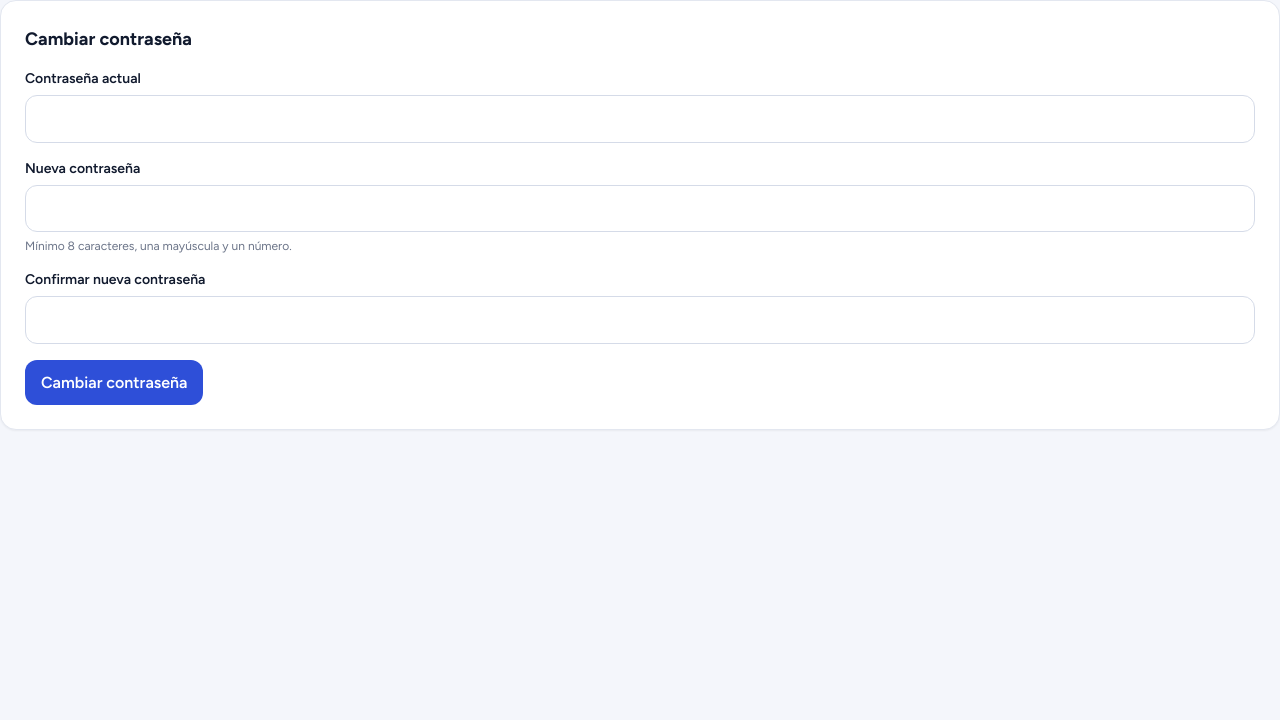
Test: FormCambioPassword › explica el límite de intentos ante un 429
Type "Actual123" into the password field labelled "Contraseña actual".
click(640, 119); type("Actual123")  # box left=25, top=95, right=1255, bottom=143
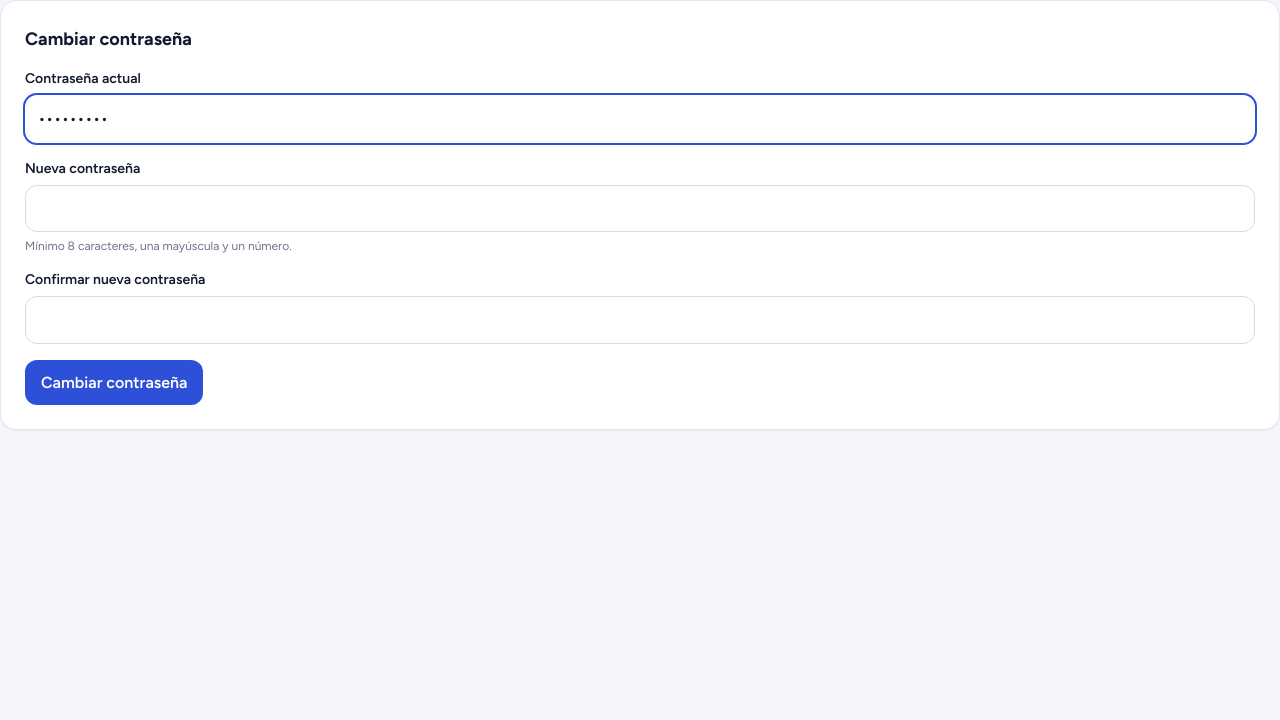
Type "Nueva4567" into the password field labelled "Nueva contraseña".
click(640, 208); type("Nueva4567")  # box left=25, top=185, right=1255, bottom=232
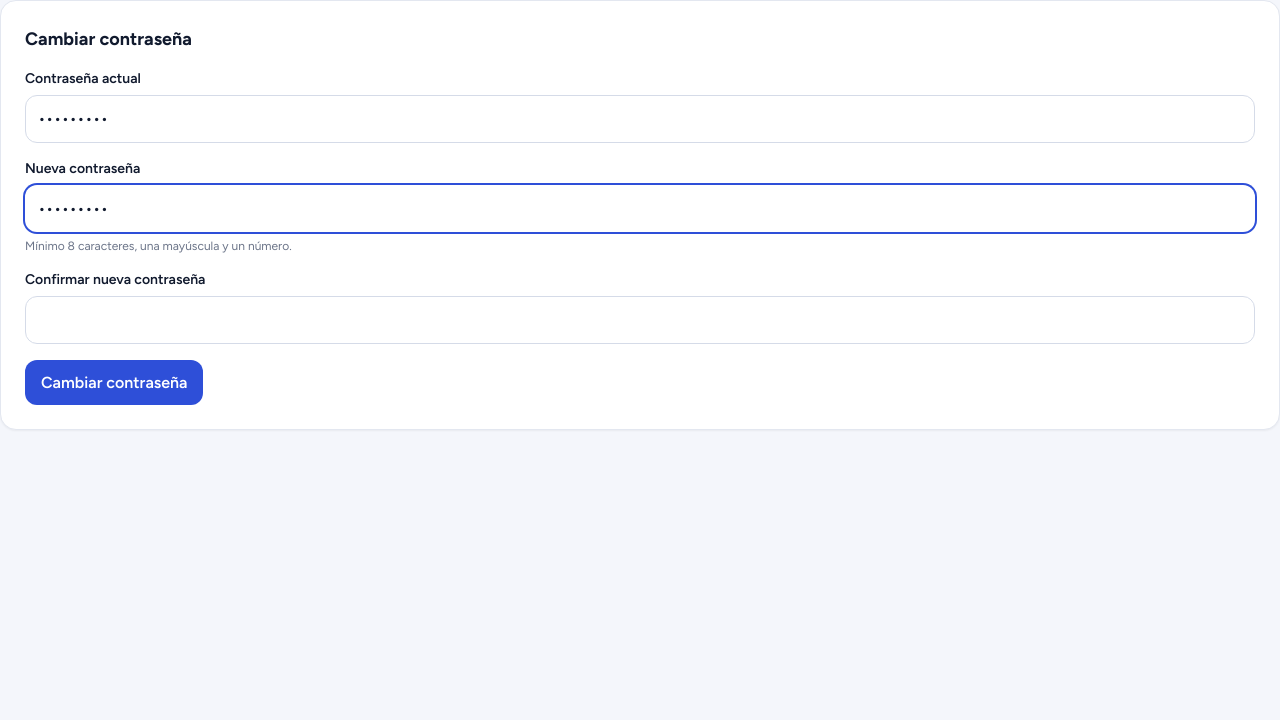
Type "Nueva4567" into the password field labelled "Confirmar nueva contraseña".
click(640, 320); type("Nueva4567")  # box left=25, top=296, right=1255, bottom=344
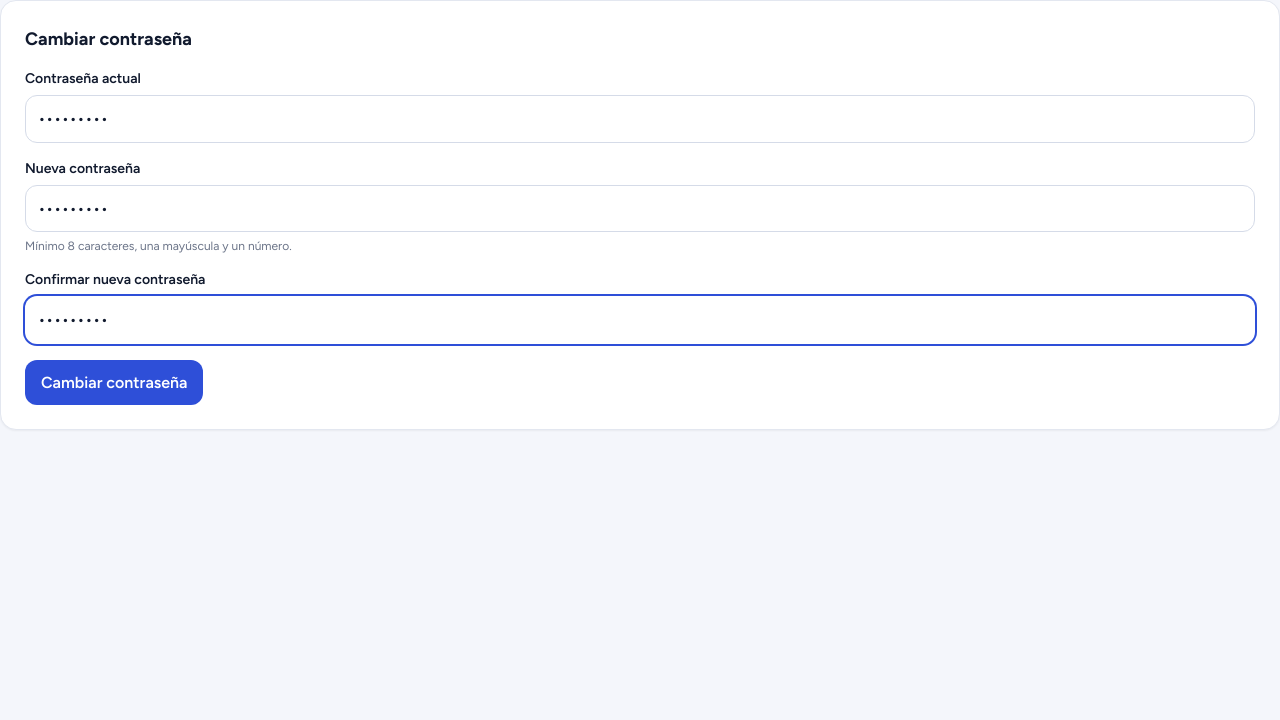
Click the button "Cambiar contraseña".
click(114, 383)  # box left=25, top=360, right=204, bottom=405
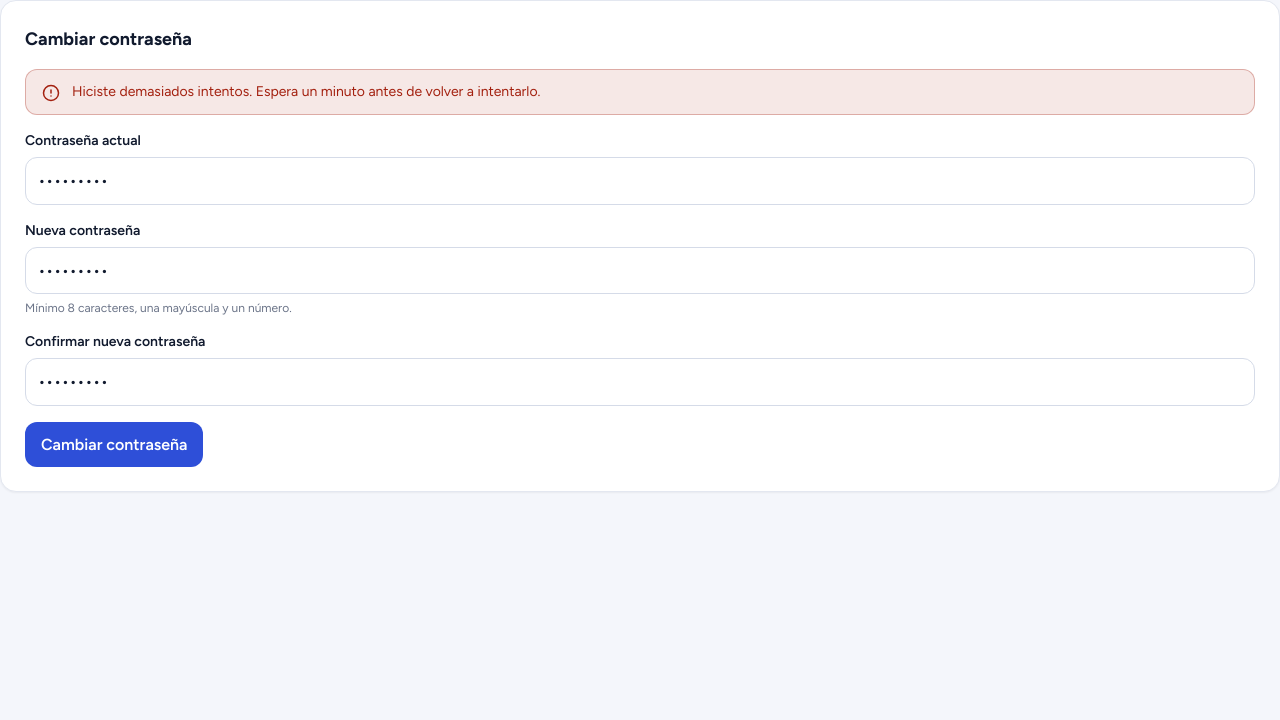
Check: the message reads "Hiciste demasiados intentos. Espera un minuto antes de volver a intentarlo.", box left=72, top=83, right=540, bottom=100
